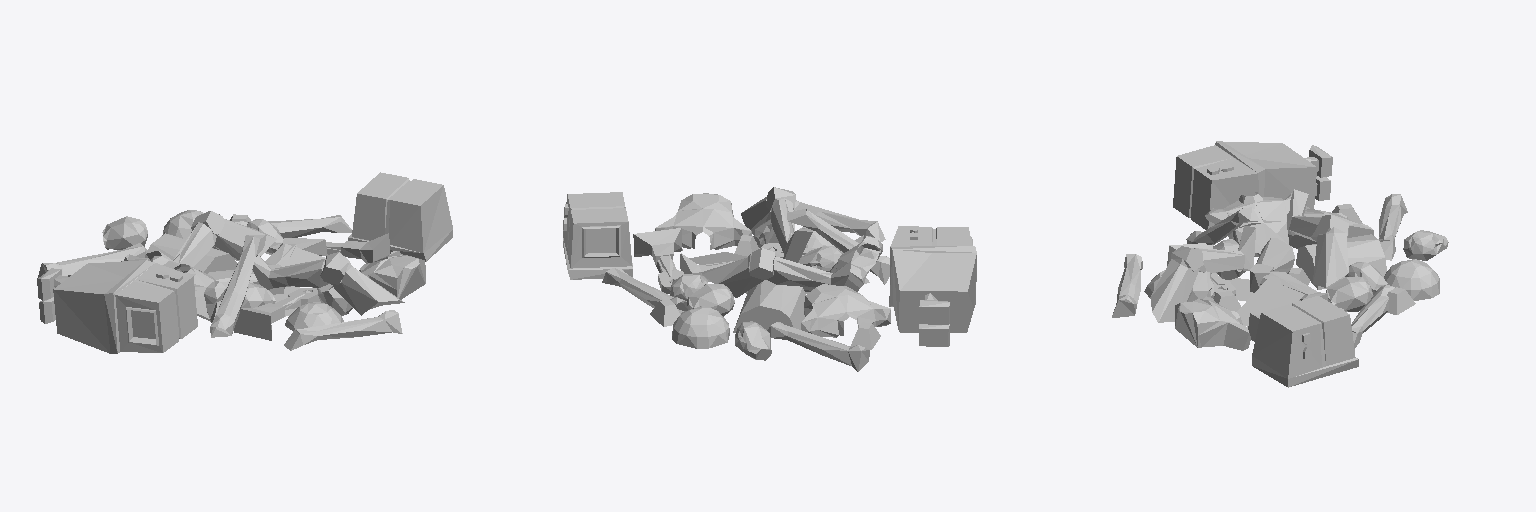
Rendered from Мусор.obj.
3 renders of one model, left to right at view 1: azimuth 30°, elevation 25°; view 2: azimuth 150°, elevation 25°; view 3: azimuth 270°, elevation 25°, orthographic.
Visible parts, largest first — view 1: Mesh_0054; view 2: Mesh_0054; view 3: Mesh_0054.
Part boxes in pixels (x1,y1,x2,y2): Mesh_0054: (37,172,452,353); Mesh_0054: (563,187,976,371); Mesh_0054: (1112,141,1448,387).
Size of the model in its own units: 2053 by 371 by 1491.